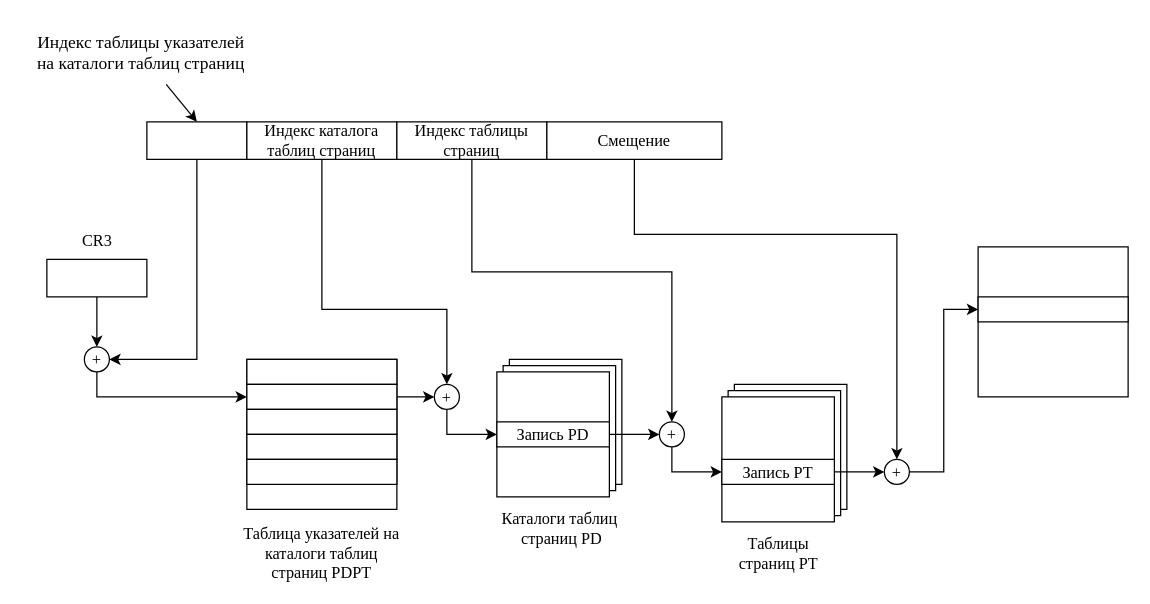
This 1150x604 diagram has some shape labels left out. Each missing label, with the centre of its shape:
Запись PDPT: point 321,396
Физический адрес: point 1052,309
